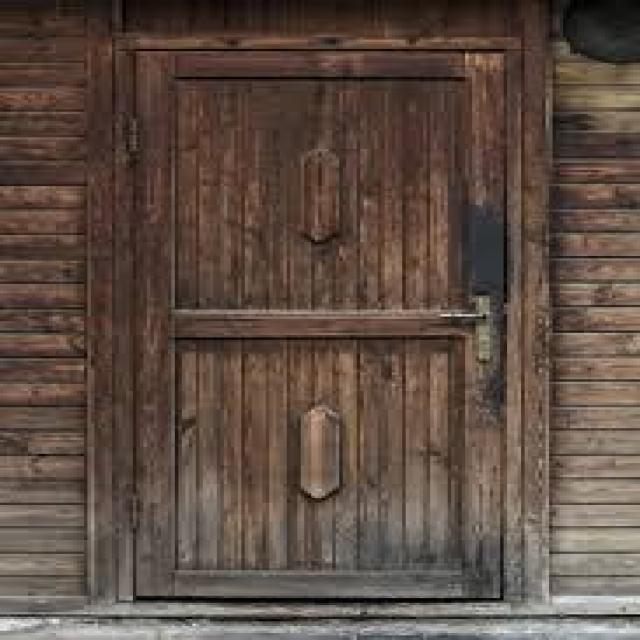Door: (127, 46, 513, 606)
